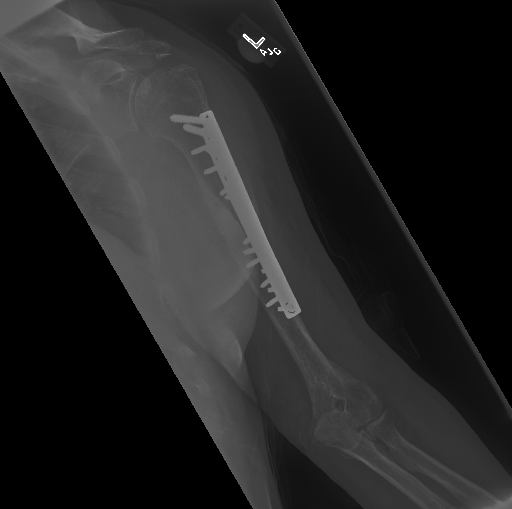implant: (170, 104, 299, 321)
